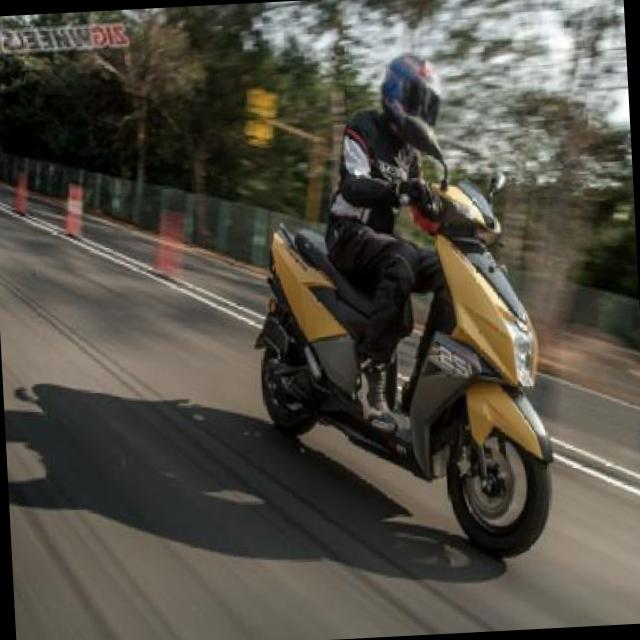With Helmet: (374, 38, 453, 150)
